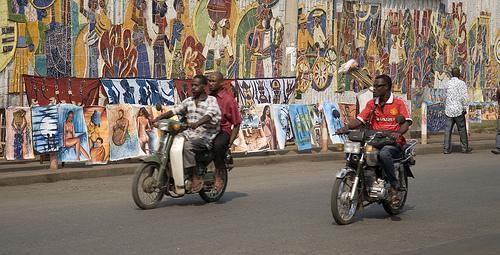motorbike: (126, 119, 234, 206), (330, 134, 424, 223)
